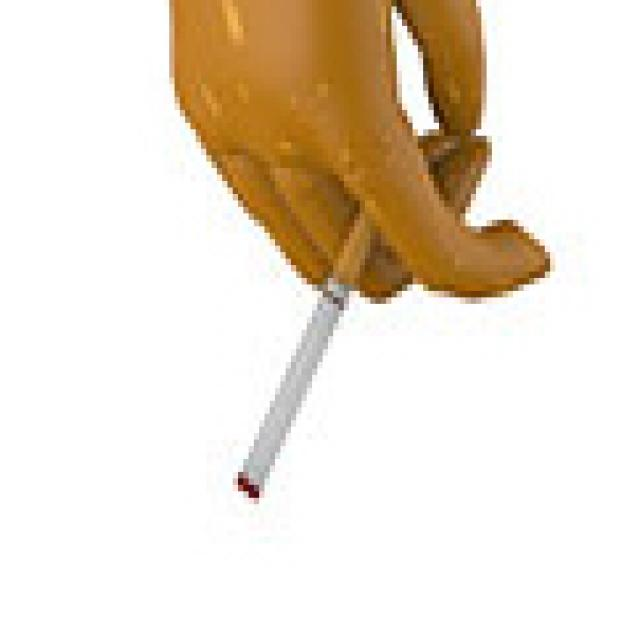smoking: (235, 211, 382, 505)
